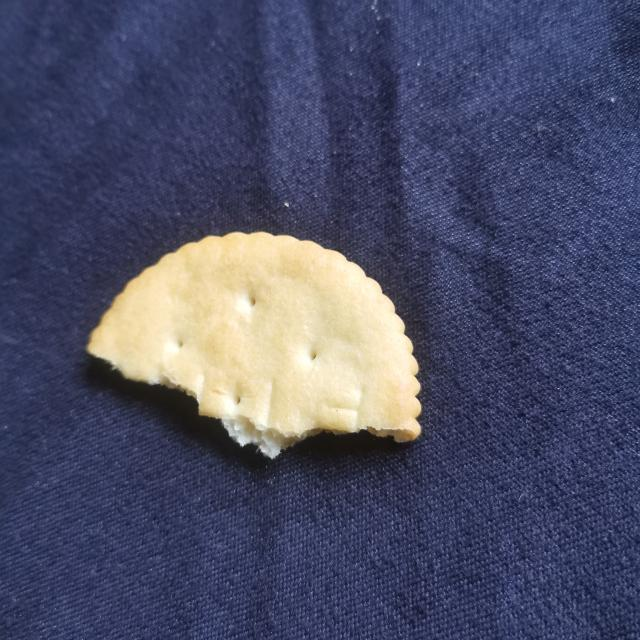Broken: (85, 229, 423, 459)
